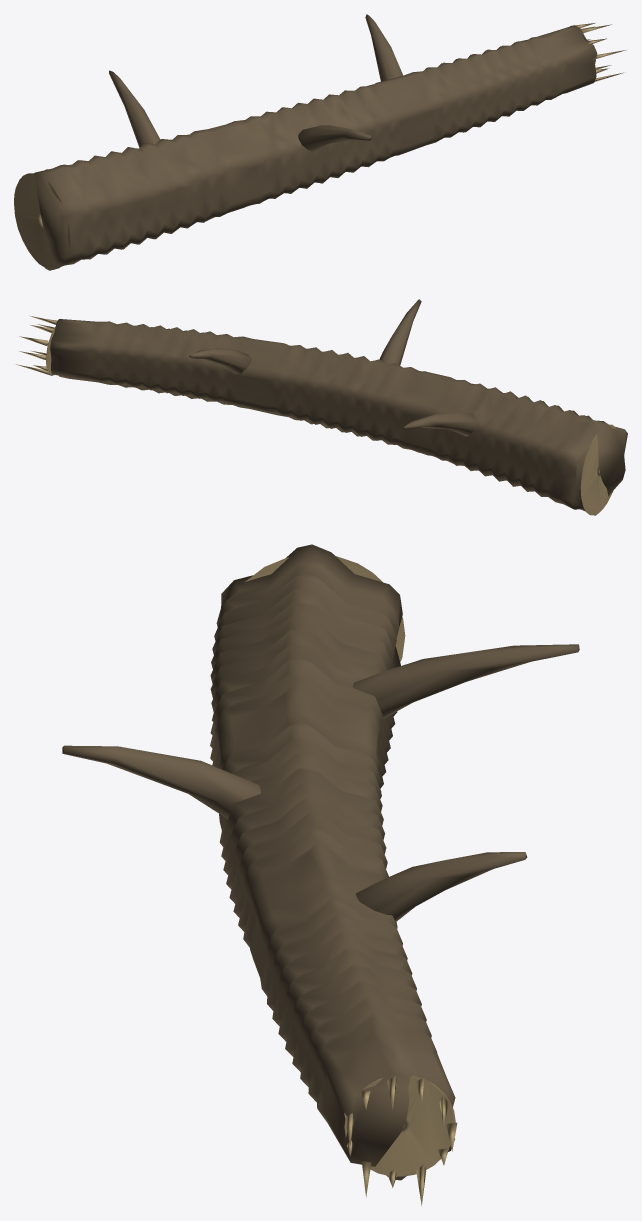
Rendered from submerged-log.lod1.glb.
3 renders of one model, top to bottom at view 1: azimuth 30°, elevation 25°; view 2: azimuth 150°, elevation 25°; view 3: azimuth 270°, elevation 25°, orthographic. The views are drawn at different scales.
Visible parts, largest first — view 1: submerged-log; view 2: submerged-log; view 3: submerged-log.
Boxes of the visible parts, <box> form: submerged-log: <box>14,14,626,270</box>; submerged-log: <box>16,299,627,515</box>; submerged-log: <box>62,544,579,1205</box>.
Bounding box in the file's own units: 3.26 × 0.6258 × 1.29.
